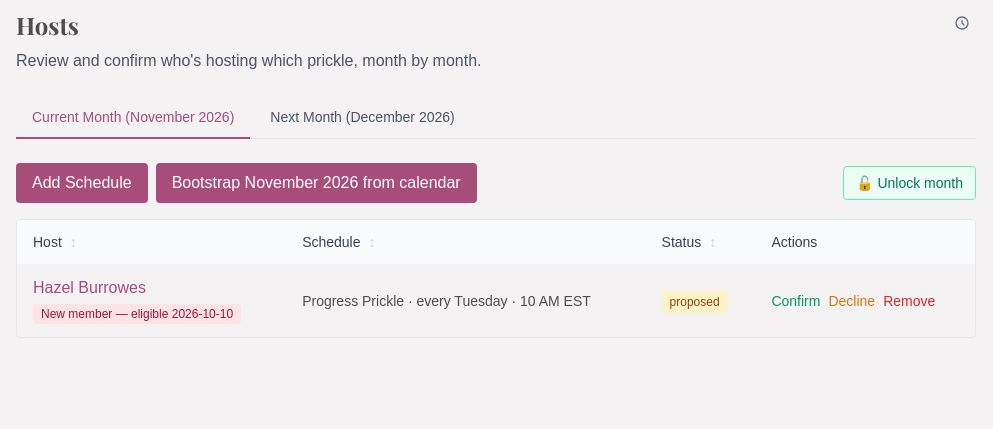
Scenario: HostsClient bootstrap from calendar › asks a second question when proposed rows match, and sends confirmMatchingProposed only when accepted
The width and height of the screenshot is (993, 429).
Check: the link "Hazel Burrowes" is shown, box [33,279,146,296]
Click the button "Bootstrap November 2026 from calendar": (316, 183) [156,163,477,203]
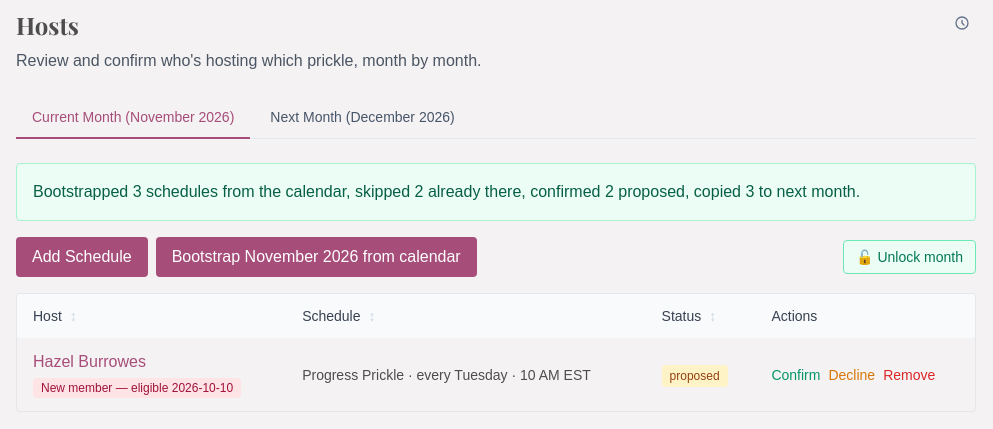
Check: the text "confirmed 2 proposed" is shown, box [33,183,860,200]
